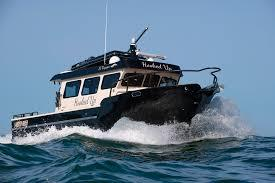fishing boat: (9, 24, 227, 144)
